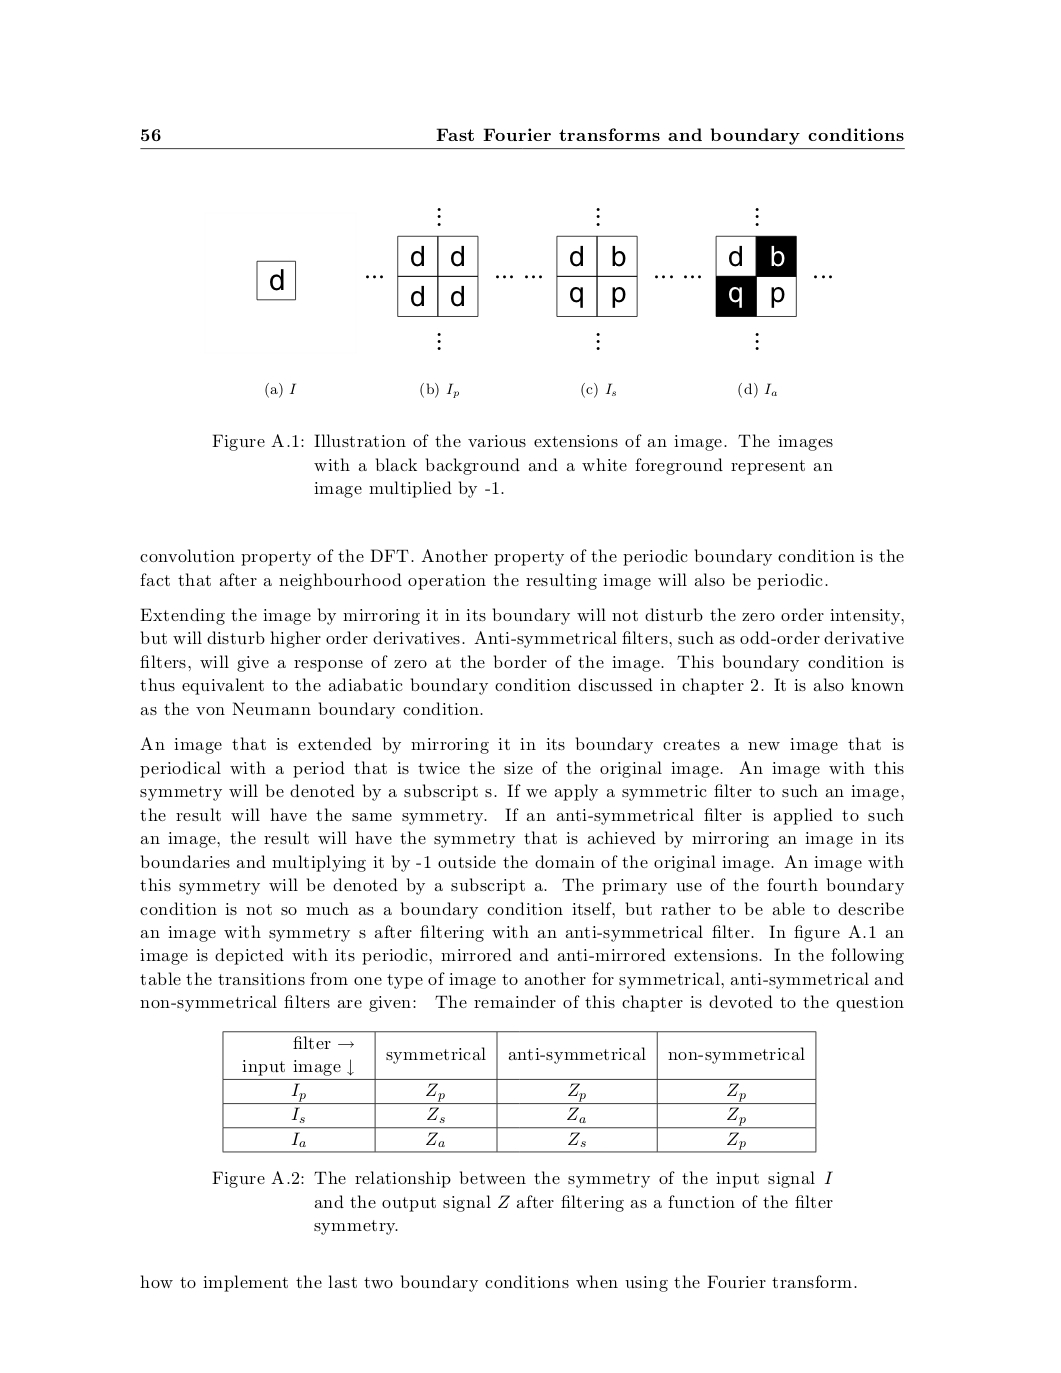Table: (222, 1030, 816, 1153)
figure: (525, 208, 672, 349), (684, 208, 831, 349), (366, 208, 512, 335), (256, 260, 295, 300)
